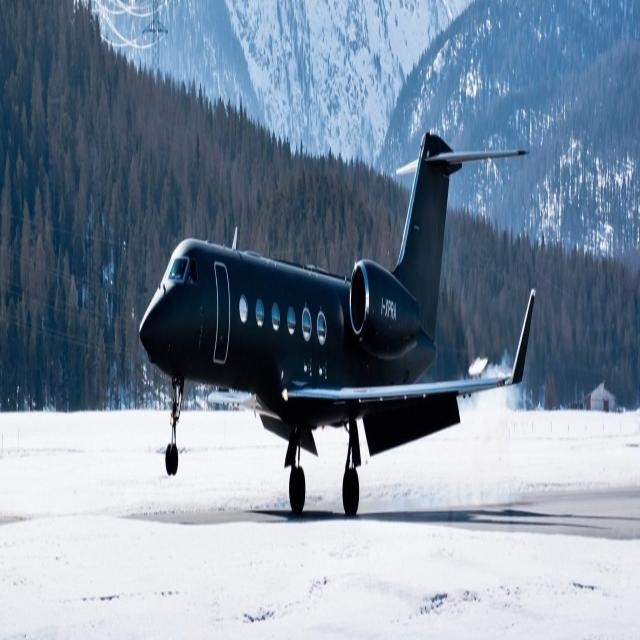jet: (110, 51, 579, 570)
